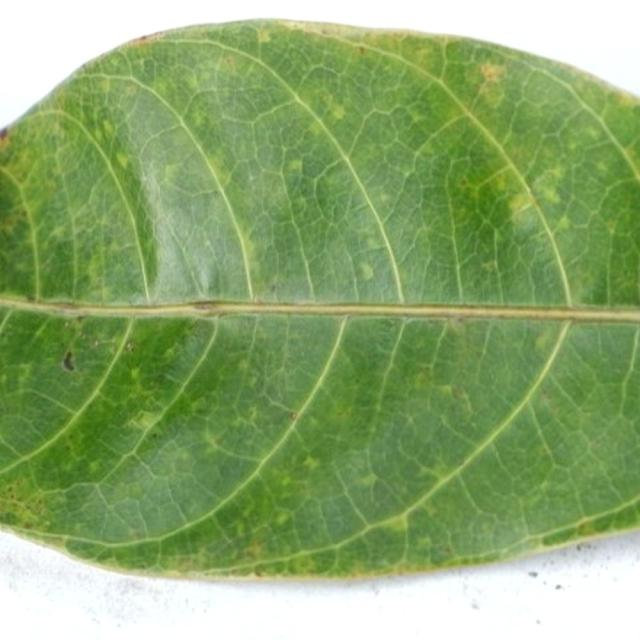Mango: (0, 21, 639, 305), (0, 302, 639, 576)
Powdery_Mildew: (119, 398, 173, 443), (4, 474, 51, 523), (475, 62, 504, 100), (317, 92, 348, 121), (201, 427, 230, 455), (507, 191, 536, 217), (200, 266, 224, 296), (243, 537, 265, 561), (388, 514, 413, 533), (15, 361, 34, 382), (179, 321, 198, 341), (355, 471, 379, 486), (162, 162, 182, 180), (357, 262, 375, 281), (301, 455, 321, 471), (62, 350, 76, 372), (555, 214, 572, 232), (364, 235, 383, 251), (274, 510, 292, 526), (451, 385, 469, 401), (481, 259, 500, 274), (115, 151, 130, 169), (624, 146, 638, 165), (222, 54, 238, 70), (257, 28, 272, 44), (287, 158, 303, 172), (129, 367, 142, 381), (452, 315, 467, 327), (459, 177, 470, 188), (125, 340, 135, 352), (290, 411, 299, 421)
